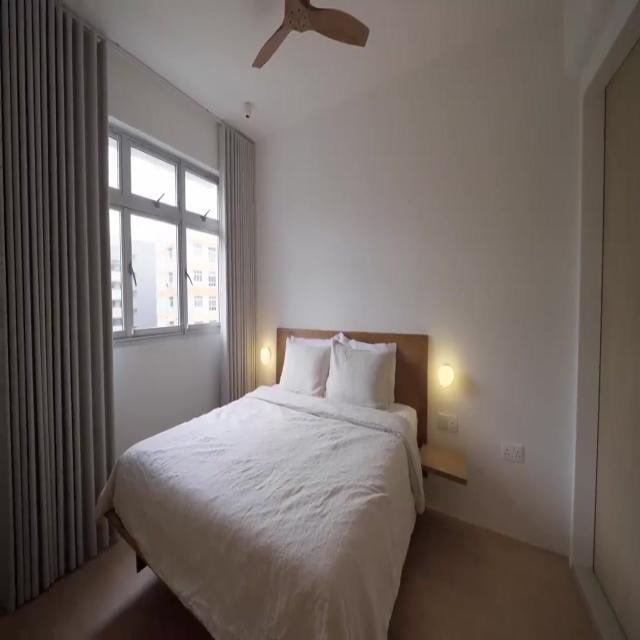obstacle: (96, 328, 428, 638), (419, 444, 467, 486)
